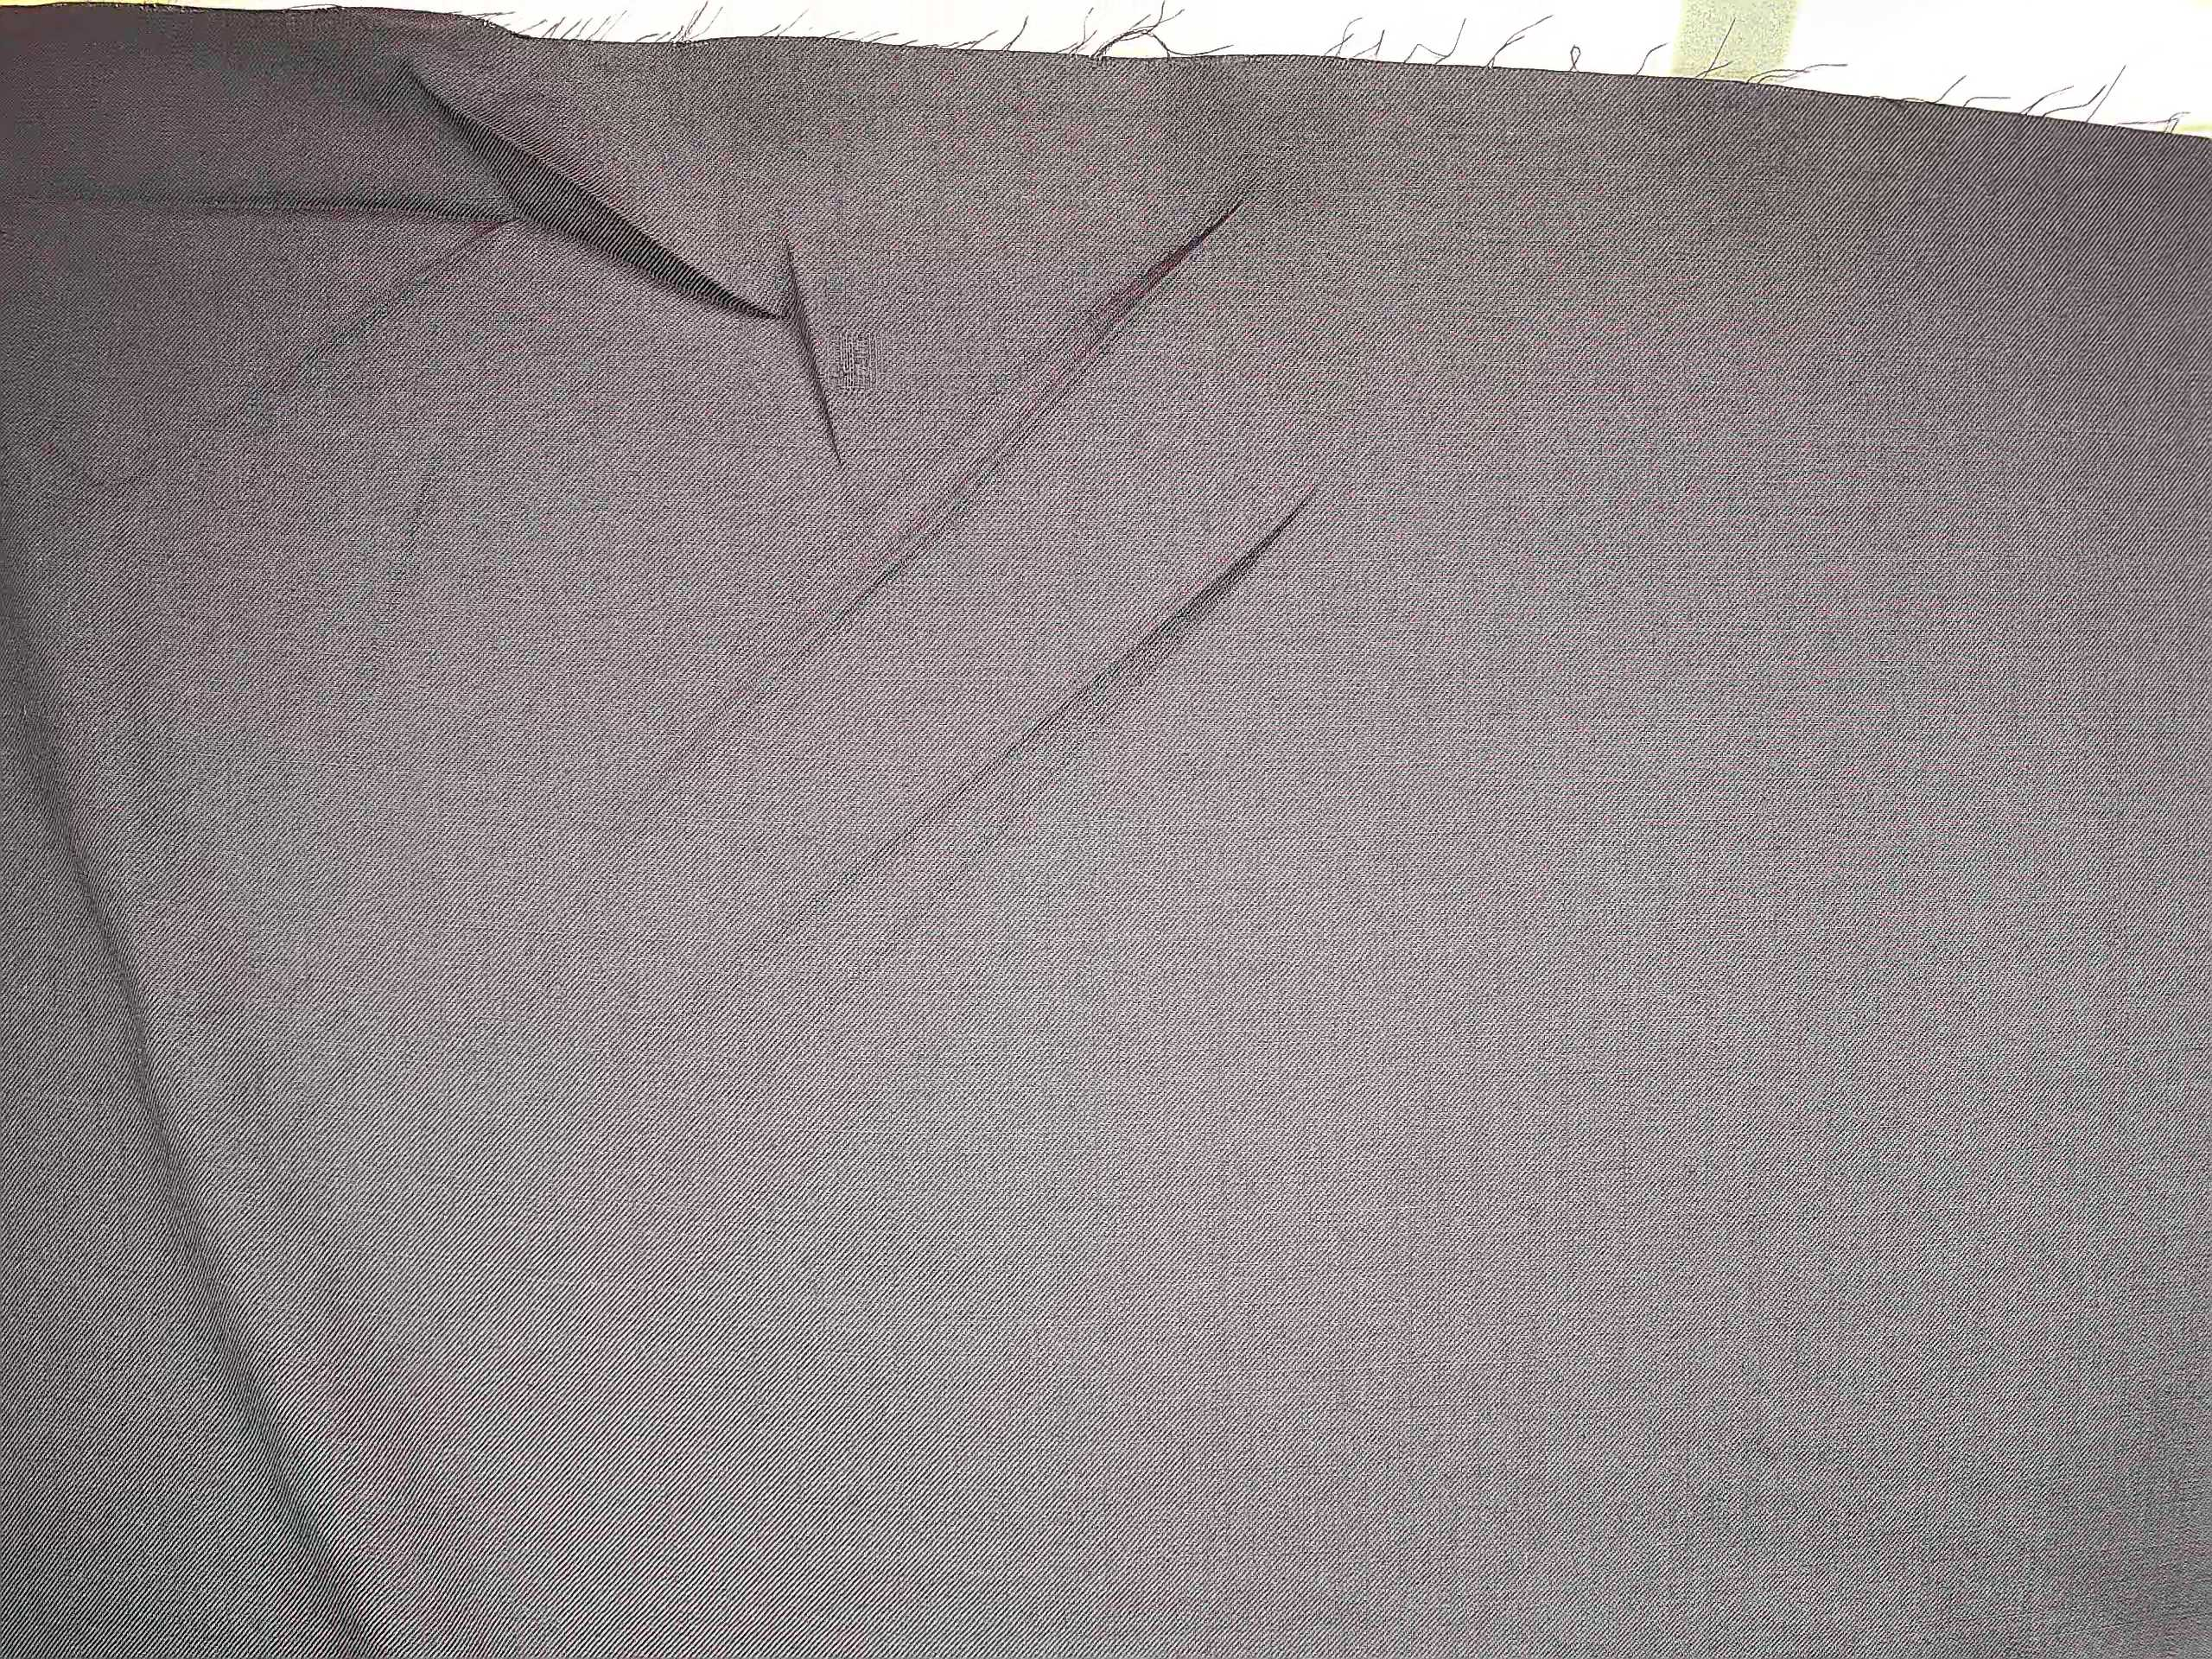jumps: (794, 288, 942, 444)
